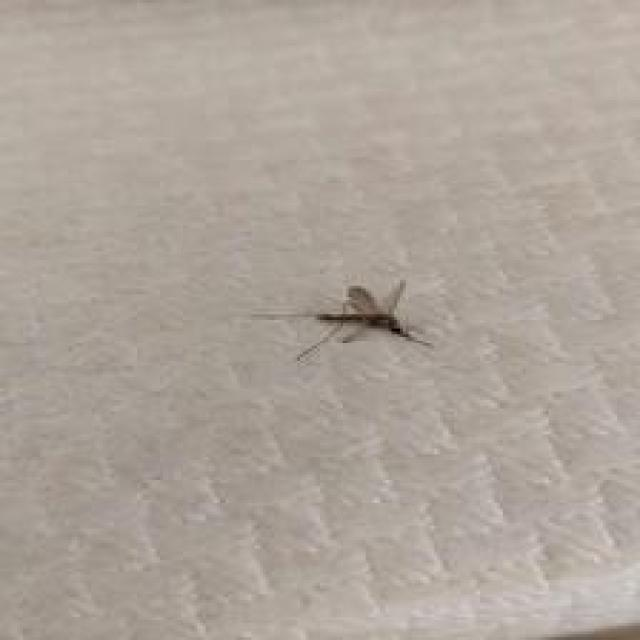Culex: (250, 277, 433, 363)
